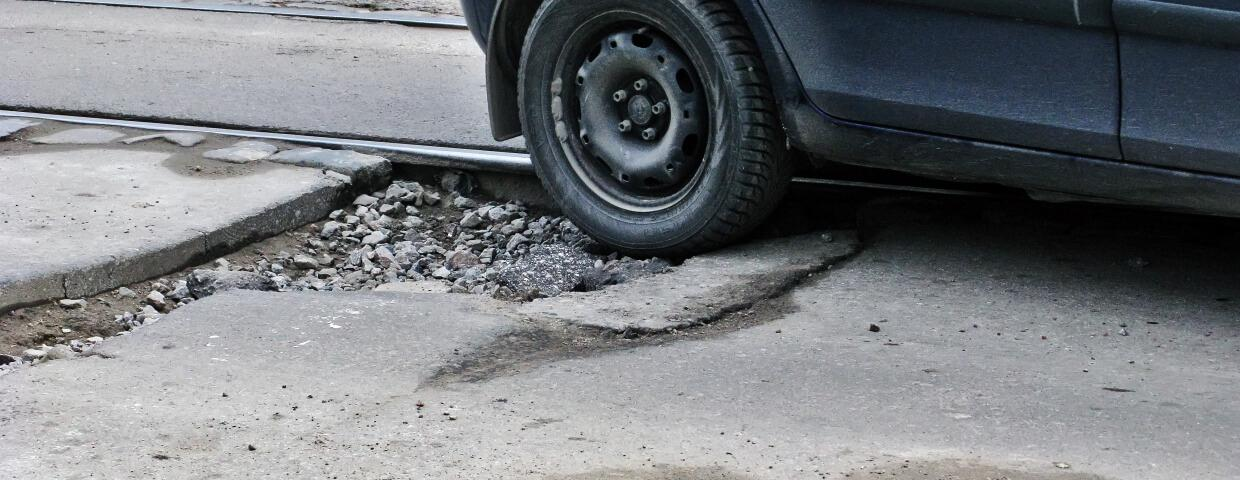Pothole: (1, 107, 726, 443), (500, 438, 1235, 479)
